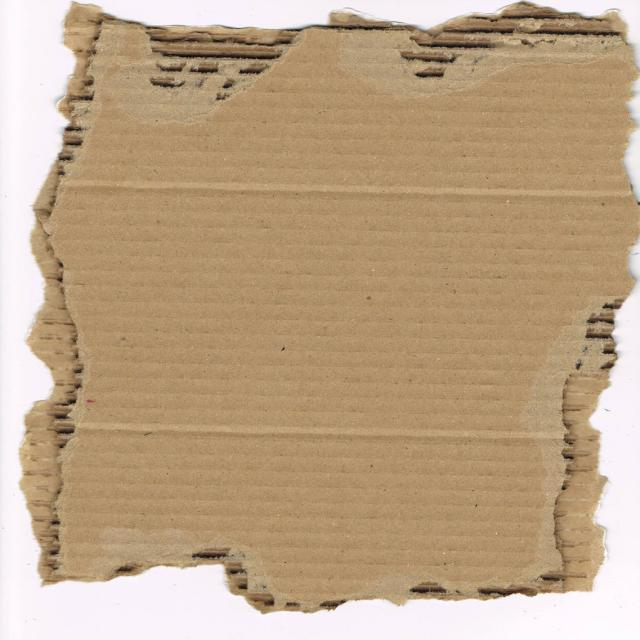Carton: (24, 3, 640, 612)
